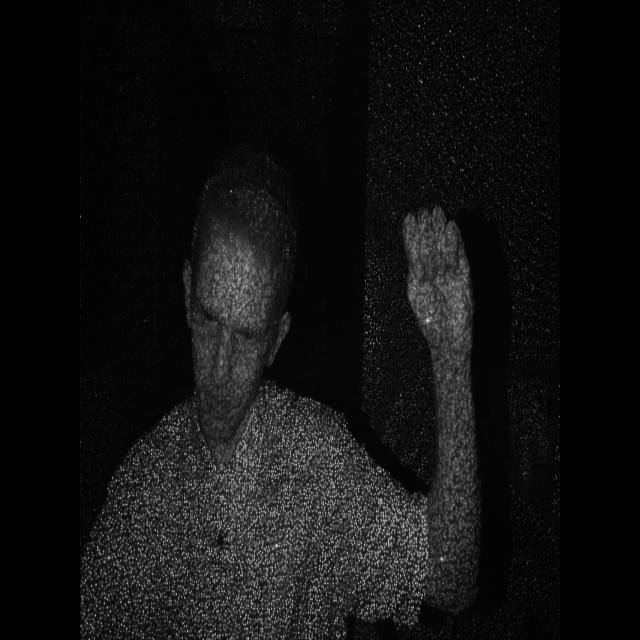M: (393, 192, 485, 358)
